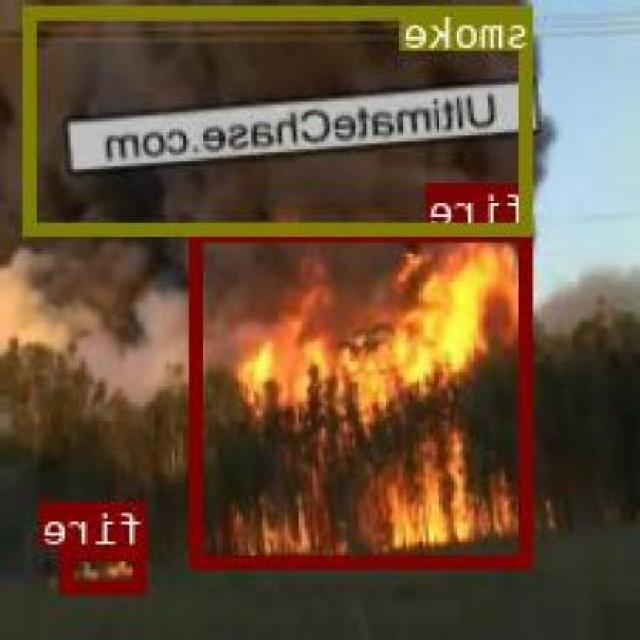Fire: (210, 225, 517, 577)
Smoke: (13, 15, 515, 372)
